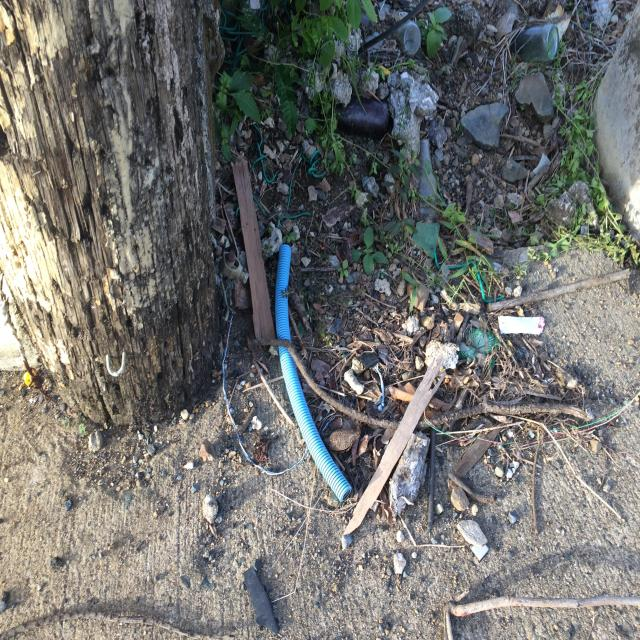litter: (275, 245, 352, 502), (358, 11, 422, 57), (427, 428, 448, 538), (417, 140, 437, 216), (456, 342, 495, 368), (465, 329, 501, 354)
